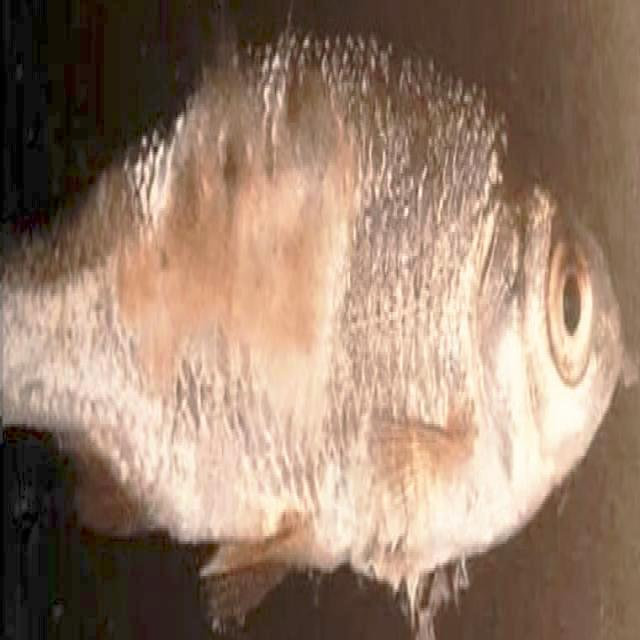Columnaris Disease: (0, 27, 630, 620)
